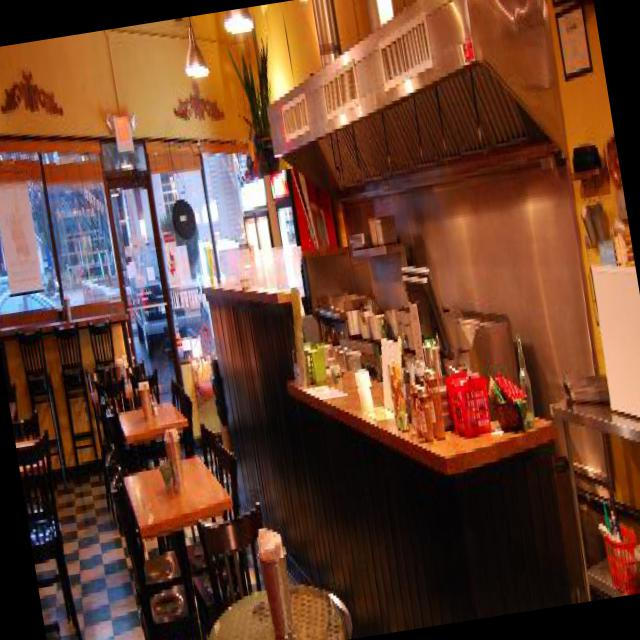2001: (42, 151, 120, 302), (0, 152, 61, 310)
bar stool: (200, 277, 571, 634)
basket crop: (444, 366, 490, 434)
bottle crop: (514, 333, 534, 426)
chair part: (119, 480, 190, 640), (214, 433, 239, 517)
door opening: (105, 179, 188, 454)
extractor hood: (265, 0, 566, 202)
floor -X: (22, 450, 567, 640)
jar -X: (422, 365, 444, 435), (415, 381, 433, 438)
lamp crop: (184, 17, 206, 75), (220, 8, 254, 37)
saucepan: (341, 301, 364, 331), (365, 309, 386, 337)
sign: (112, 111, 132, 148)
stool: (16, 327, 65, 473)
stool crop: (54, 319, 98, 470)
table -X: (122, 452, 229, 640)
table lamp: (210, 580, 350, 640)
table runner: (118, 394, 185, 459)
wall clock: (227, 0, 640, 599), (0, 11, 293, 477)
